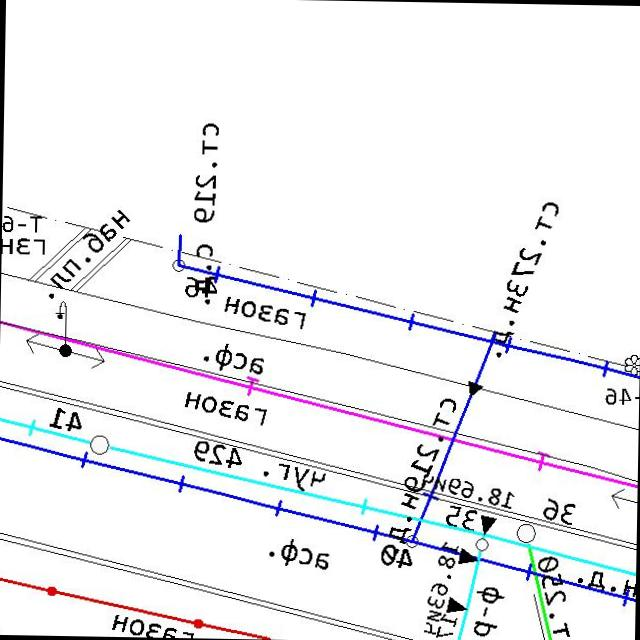asphalt: (266, 536, 331, 572), (201, 341, 265, 377)
mark: (445, 594, 468, 615), (478, 514, 498, 536), (456, 546, 478, 566)
well: (514, 520, 538, 544), (88, 432, 111, 456), (472, 536, 492, 554), (402, 532, 421, 550), (170, 256, 187, 275)
